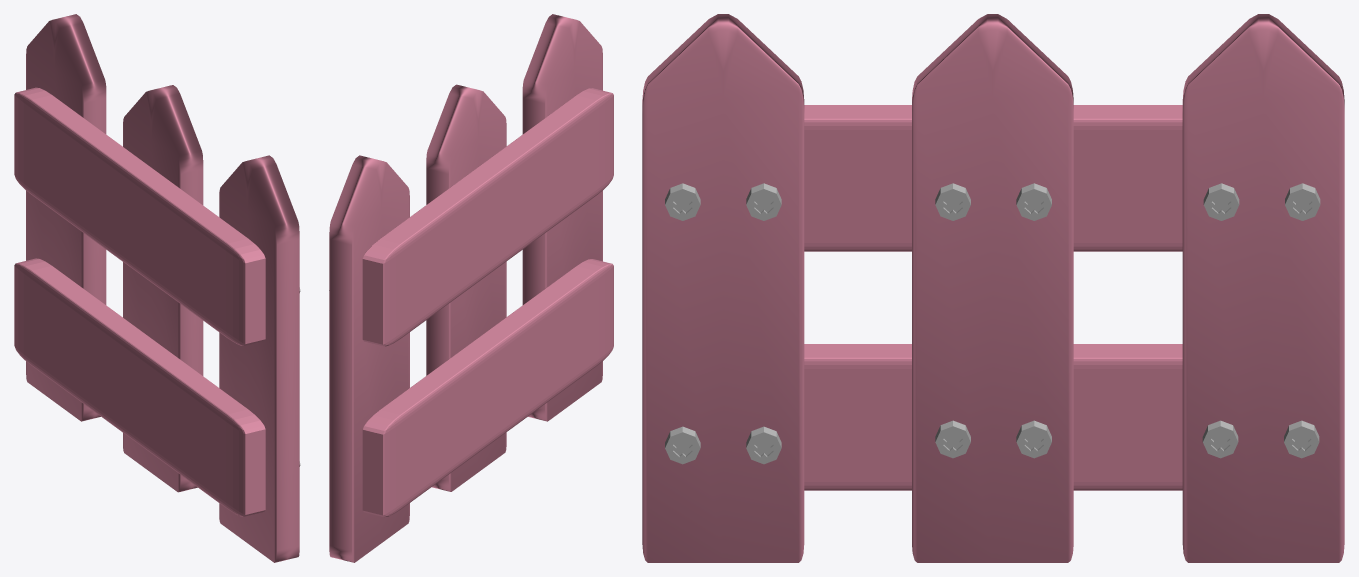
The model's file is vallaFINAL.fbx.
The picture shows the model from 3 angles, left to right: view 1: azimuth 30°, elevation 25°; view 2: azimuth 150°, elevation 25°; view 3: azimuth 270°, elevation 25°; orthographic projection. The views are drawn at different scales.
Parts seen in each view (by area): view 1: Cube.004; view 2: Cube.004; view 3: Cube.004, Cylinder.007.
Boxes of the visible parts, bbox=[...] form: Cube.004: bbox=[14, 14, 299, 562]; Cube.004: bbox=[329, 14, 613, 562]; Cube.004: bbox=[642, 14, 1344, 562]; Cylinder.007: bbox=[665, 183, 1320, 464].
Bounding box in the file's own units: 29.54 × 197 × 235.
